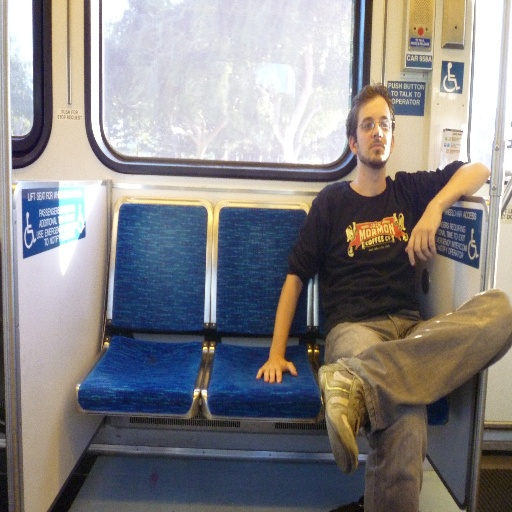hand: (414, 190, 453, 279), (255, 354, 298, 386)
